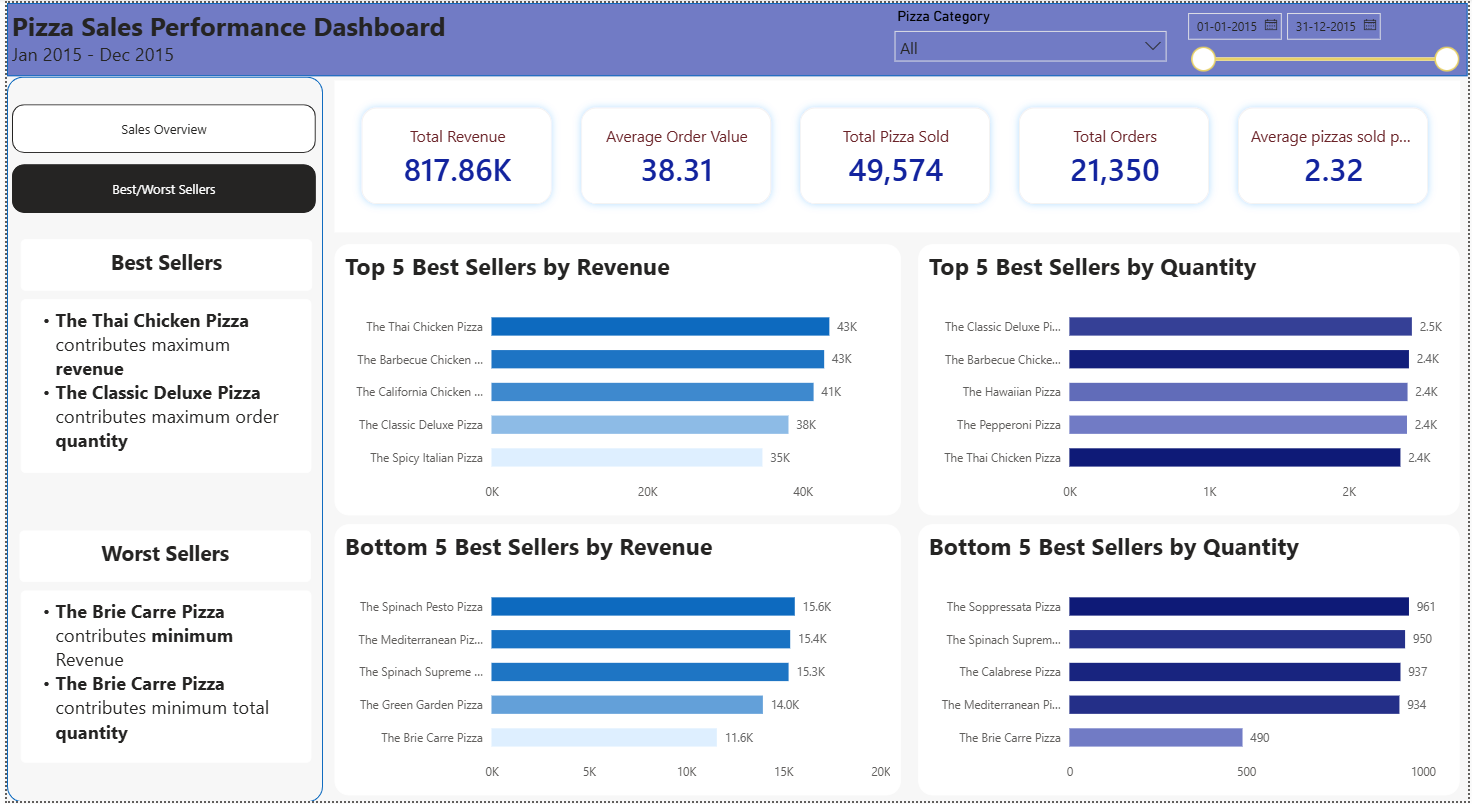

What the dashboard file says about the page in this screenshot:
{"tool":"powerbi","page":{"name":"Best/Worst Sellers","canvas":[1500,820],"ordinal":1},"visuals":[{"type":"cardVisual","title":"KPI","fields":{"Data":["orders_details.Total Revenue","orders_details.Average Order Value","orders_details.Total Pizza Sold","orders_details.Total Orders","orders_details.Average pizzas sold per order"]},"box":[335.7,80,1155.7,155.7],"z":0},{"type":"barChart","title":"Top 5 Best Sellers by Revenue","fields":{"Category":["pizza_types.name"],"Y":["orders_details.Total Revenue"]},"box":[335.7,247.1,581.4,278.6],"z":1000},{"type":"shape","box":[0,0,1499.9,75.2],"z":2000},{"type":"textbox","box":[0,0,1499.9,75.2],"z":3000},{"type":"shape","box":[0,75.2,324.5,745.1],"z":4000},{"type":"textbox","box":[14.3,304.3,298.6,178.6],"z":5000},{"type":"textbox","box":[13.9,242.3,299.4,52.9],"z":6000},{"type":"textbox","box":[12.9,541.4,299.4,52.9],"z":7000},{"type":"textbox","box":[14.3,602.9,298.6,177.1],"z":8000},{"type":"slicer","fields":{"Values":["orders.order_date"]},"box":[1200.5,0,299.4,75.2],"z":9000},{"type":"slicer","fields":{"Values":["pizza_types.category"]},"box":[901.1,0,299.4,65],"z":10000},{"type":"barChart","title":"Top 5 Best Sellers by Quantity","fields":{"Category":["pizza_types.name"],"Y":["orders_details.Total Pizza Sold"]},"box":[935.7,247.1,555.7,278.6],"z":11000},{"type":"barChart","title":"Bottom 5 Best Sellers by Revenue","fields":{"Category":["pizza_types.name"],"Y":["orders_details.Total Revenue"]},"box":[335.7,535.7,581.4,278.6],"z":13000},{"type":"barChart","title":"Bottom 5 Best Sellers by Quantity","fields":{"Category":["pizza_types.name"],"Y":["orders_details.Total Pizza Sold"]},"box":[935.7,535.7,555.7,278.6],"z":14000},{"type":"pageNavigator","box":[5.7,104.3,312.9,50],"z":14002},{"type":"pageNavigator","box":[5.7,165.7,312.9,50],"z":14003}]}

Visuals, with their boxes in screenshot pixels (x1, y1, x2, y2), scaled from the page's 1500x820 canvas onto the 1472x804 screenshot:
"KPI" cardVisual: bbox(329, 78, 1464, 231)
"Top 5 Best Sellers by Revenue" barChart: bbox(329, 242, 900, 515)
shape: bbox(0, 0, 1471, 74)
textbox: bbox(0, 0, 1471, 74)
shape: bbox(0, 74, 318, 803)
textbox: bbox(14, 298, 307, 473)
textbox: bbox(14, 238, 307, 289)
textbox: bbox(13, 531, 306, 583)
textbox: bbox(14, 591, 307, 765)
slicer - orders.order_date: bbox(1178, 0, 1471, 74)
slicer - pizza_types.category: bbox(884, 0, 1178, 64)
"Top 5 Best Sellers by Quantity" barChart: bbox(918, 242, 1464, 515)
"Bottom 5 Best Sellers by Revenue" barChart: bbox(329, 525, 900, 798)
"Bottom 5 Best Sellers by Quantity" barChart: bbox(918, 525, 1464, 798)
pageNavigator: bbox(6, 102, 313, 151)
pageNavigator: bbox(6, 162, 313, 211)
